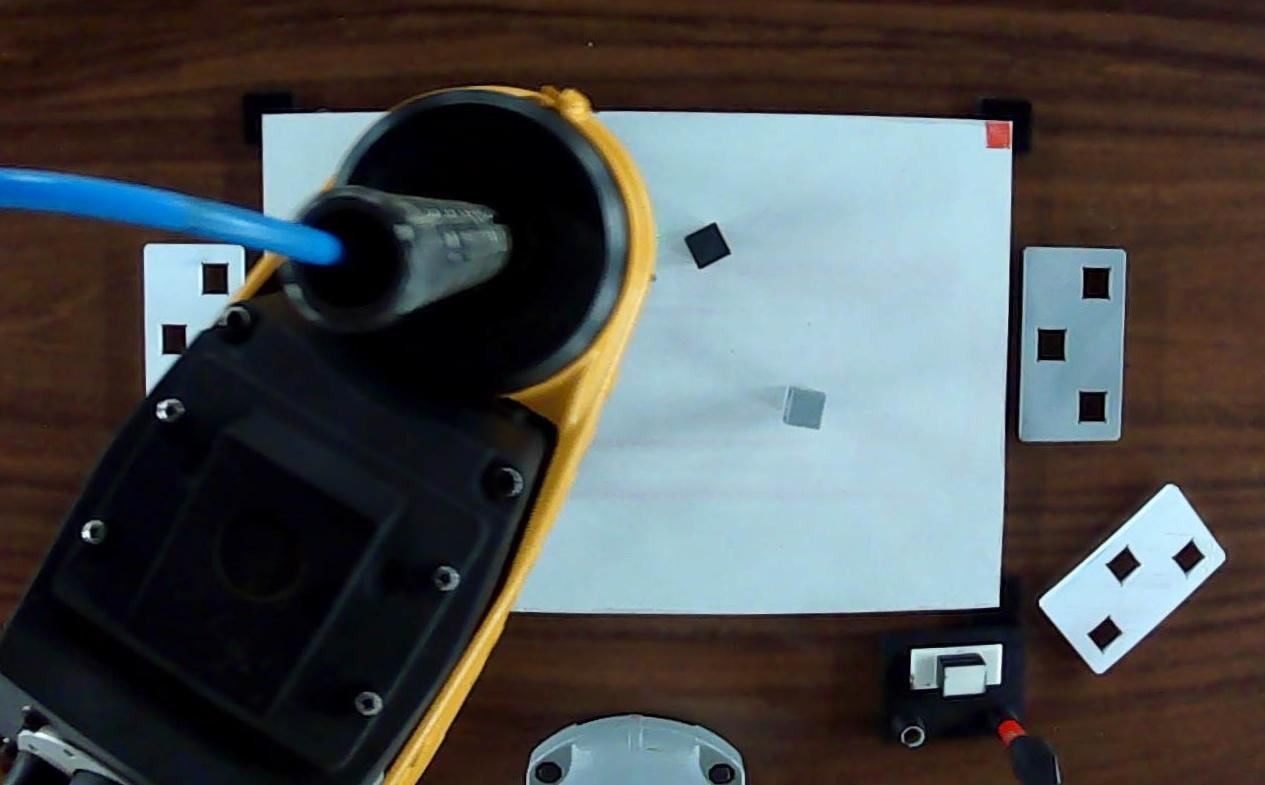pecaCinza: (779, 382, 829, 432)
pecaPreta: (683, 219, 738, 273)
